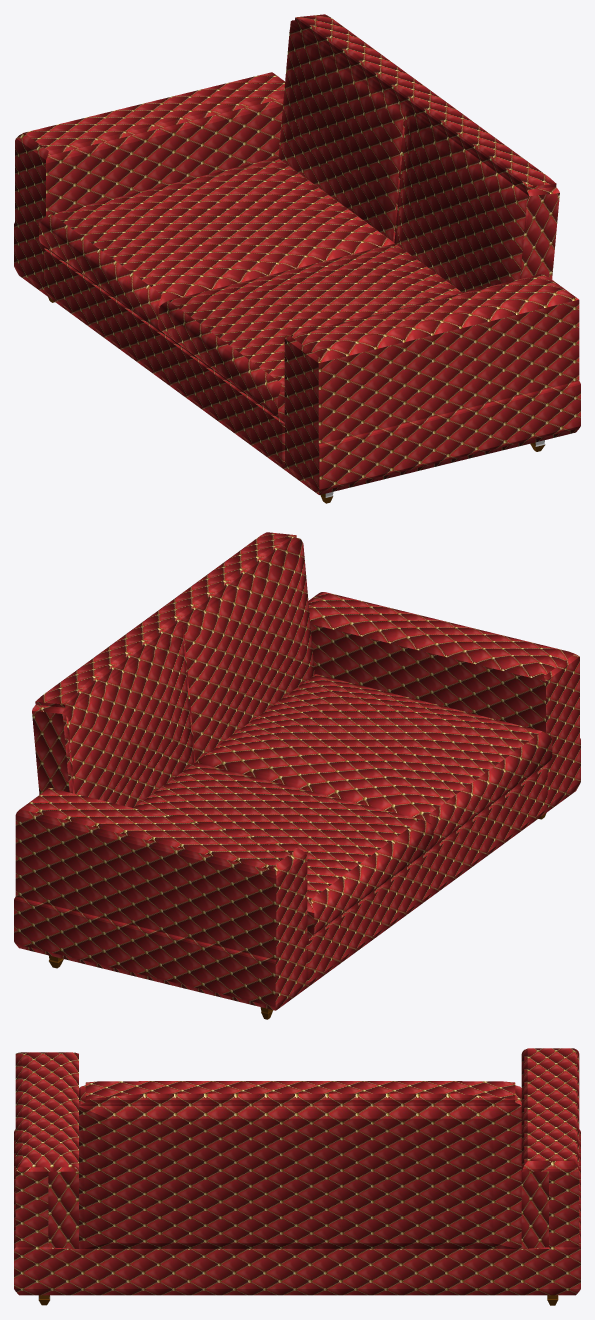
Rendered from sofaBien.fbx.
3 renders of one model, top to bottom at view 1: azimuth 30°, elevation 25°; view 2: azimuth 150°, elevation 25°; view 3: azimuth 270°, elevation 25°, orthographic. The views are drawn at different scales.
Visible parts, largest first — view 1: sofa:Mesh; view 2: sofa:Mesh; view 3: sofa:Mesh.
Boxes of the visible parts, bbox=[...] form: sofa:Mesh: bbox=[14, 14, 580, 503]; sofa:Mesh: bbox=[14, 532, 580, 1019]; sofa:Mesh: bbox=[14, 1048, 580, 1305].
Size of the model in its own units: 5.01 by 4.14 by 9.23.
3 materials, 1 textured.
